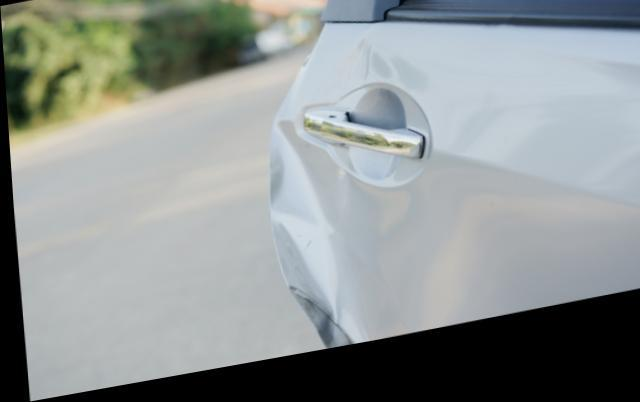dent: (270, 131, 465, 356)
